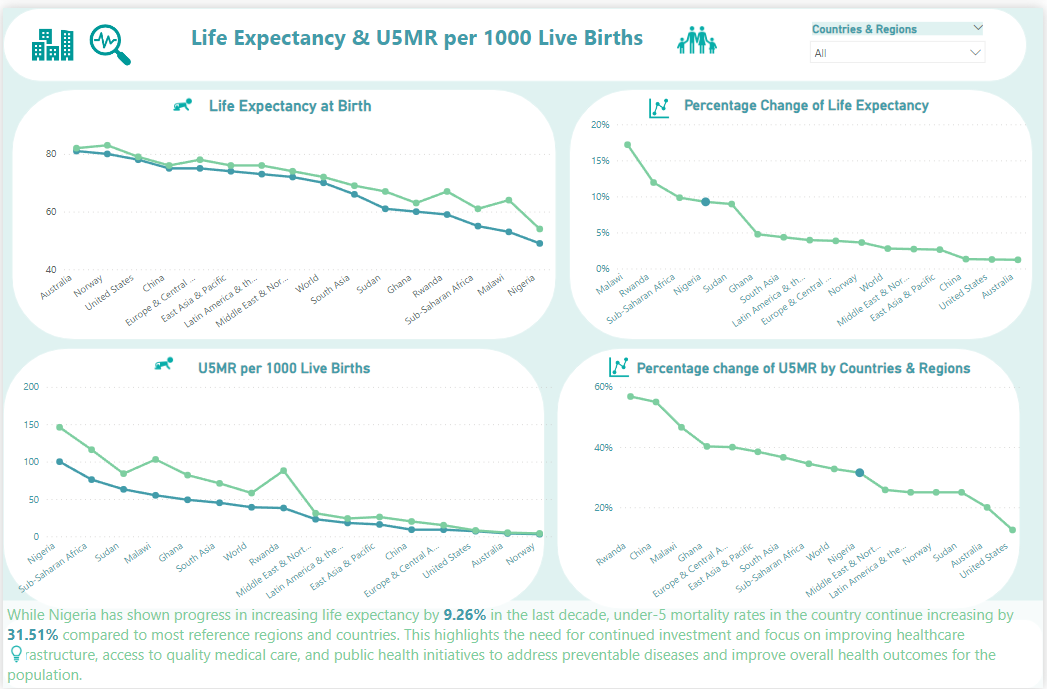

Layout of this report page (visuals, bound fields, positions):
{"tool":"powerbi","page":{"name":"Life Expectancy & U5MR","canvas":[1300,850],"ordinal":2},"visuals":[{"type":"shape","box":[0,0,1280,92],"z":0},{"type":"shape","box":[0,425.3,677.1,326.5],"z":1000},{"type":"slicer","fields":{"Values":["Comparison_of_health_situations_in_Nigeria_with_some_reference_countries__region.Countries & Regions"]},"box":[998.1,12.5,239.4,70.2],"z":2000},{"type":"lineChart","title":"U5MR per 1000 Live Births","fields":{"Category":["Comparison_of_health_situations_in_Nigeria_with_some_reference_countries__region.Countries & Regions"],"Y":["Sum(Comparison_of_health_situations_in_Nigeria_with_some_reference_countries__region.U5MR per 1000 live births (2007))","Sum(Comparison_of_health_situations_in_Nigeria_with_some_reference_countries__region.U5MR per 1000 live births (2017))"]},"box":[11,439,681,313],"z":3000},{"type":"textbox","box":[170.1,12.4,701,59.8],"z":4000},{"type":"image","box":[26.9,9.6,71.2,73.1],"z":5000},{"type":"image","box":[98.1,9.6,72.1,73.1],"z":6000},{"type":"shape","box":[10.8,101.2,680.7,313.3],"z":7000},{"type":"lineChart","title":"Life Expectancy at Birth","fields":{"Category":["Comparison_of_health_situations_in_Nigeria_with_some_reference_countries__region.Countries & Regions"],"Y":["Sum(Comparison_of_health_situations_in_Nigeria_with_some_reference_countries__region.Life expectancy at birth (2007))","Sum(Comparison_of_health_situations_in_Nigeria_with_some_reference_countries__region.Life expectancy at birth (2017))"]},"box":[27,111,665,303],"z":8000},{"type":"shape","box":[707.2,101.2,579.5,313.3],"z":9000},{"type":"lineChart","title":"Percentage Change of Life Expectancy ","fields":{"Category":["Comparison_of_health_situations_in_Nigeria_with_some_reference_countries__region.Countries & Regions"],"Y":["Sum(Comparison_of_health_situations_in_Nigeria_with_some_reference_countries__region.Percentage Change of Life Expectanc"]},"box":[722,111,565,303],"z":10000},{"type":"shape","box":[691.6,425.3,579.5,326.5],"z":11000},{"type":"lineChart","title":"Percentage change of U5MR by Countries & Regions","fields":{"Category":["Comparison_of_health_situations_in_Nigeria_with_some_reference_countries__region.Countries & Regions"],"Y":["Sum(Comparison_of_health_situations_in_Nigeria_with_some_reference_countries__region.percenatge change of U5MR)"]},"box":[722,439,558,313],"z":12000},{"type":"shape","box":[0,763.3,1300,87.3],"z":13000},{"type":"textbox","box":[0,740.6,1300,109.4],"z":14000},{"type":"image","box":[820,8,94,64],"z":15000},{"type":"image","box":[200,101,48,38],"z":16000},{"type":"image","box":[799,101,43,48],"z":17000},{"type":"image","box":[749,425,43,48],"z":18000},{"type":"image","box":[176,425,48,38],"z":19000},{"type":"image","box":[0,790,34,34],"z":20000}]}

Visuals, with their boxes in screenshot pixels (x1, y1, x2, y2), scaled from the page's 1300x850 canvas onto the 1047x689 screenshot:
shape: x1=0 y1=0 x2=1031 y2=75
shape: x1=0 y1=345 x2=545 y2=609
slicer - Comparison_of_health_situations_in_Nigeria_with_some_reference_countries__region.Countries & Regions: x1=804 y1=10 x2=997 y2=67
"U5MR per 1000 Live Births" lineChart: x1=9 y1=356 x2=557 y2=610
textbox: x1=137 y1=10 x2=702 y2=59
image: x1=22 y1=8 x2=79 y2=67
image: x1=79 y1=8 x2=137 y2=67
shape: x1=9 y1=82 x2=557 y2=336
"Life Expectancy at Birth" lineChart: x1=22 y1=90 x2=557 y2=336
shape: x1=570 y1=82 x2=1036 y2=336
"Percentage Change of Life Expectancy " lineChart: x1=581 y1=90 x2=1037 y2=336
shape: x1=557 y1=345 x2=1024 y2=609
"Percentage change of U5MR by Countries & Regions" lineChart: x1=581 y1=356 x2=1031 y2=610
shape: x1=0 y1=619 x2=1046 y2=688
textbox: x1=0 y1=600 x2=1046 y2=688
image: x1=660 y1=6 x2=736 y2=58
image: x1=161 y1=82 x2=200 y2=113
image: x1=644 y1=82 x2=678 y2=121
image: x1=603 y1=344 x2=638 y2=383
image: x1=142 y1=344 x2=180 y2=375
image: x1=0 y1=640 x2=27 y2=668
